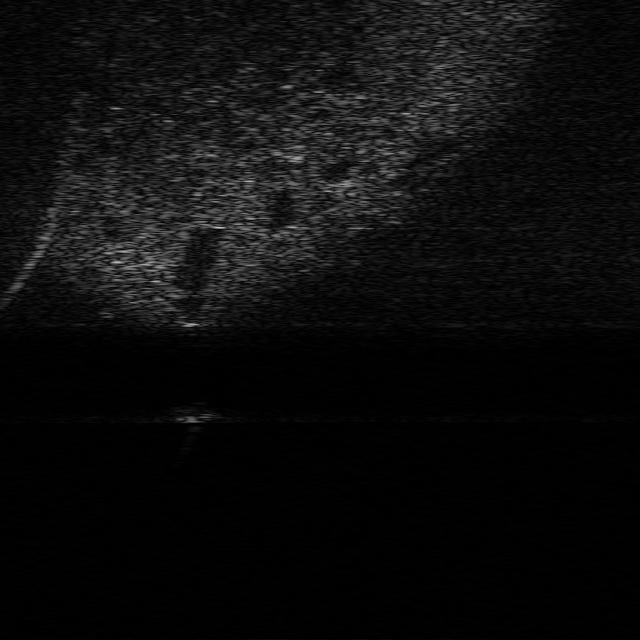cube: (164, 404, 216, 423)
